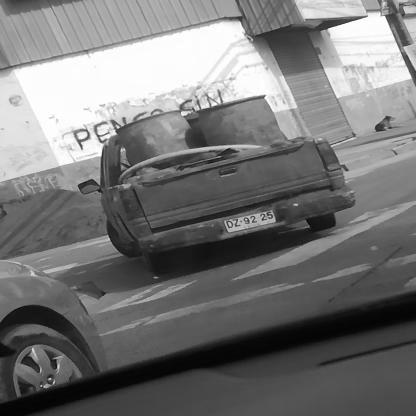Patente: (221, 208, 281, 236)
